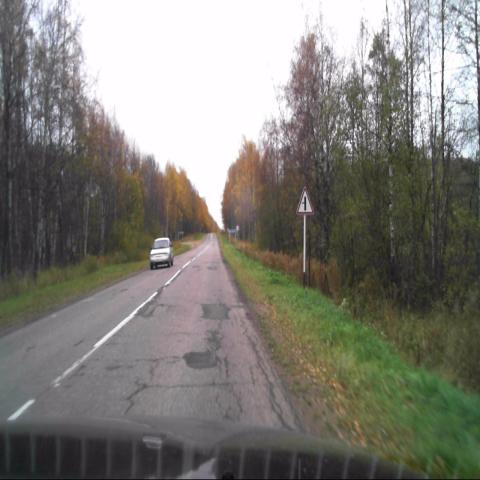2_3_3: (296, 185, 313, 214)
